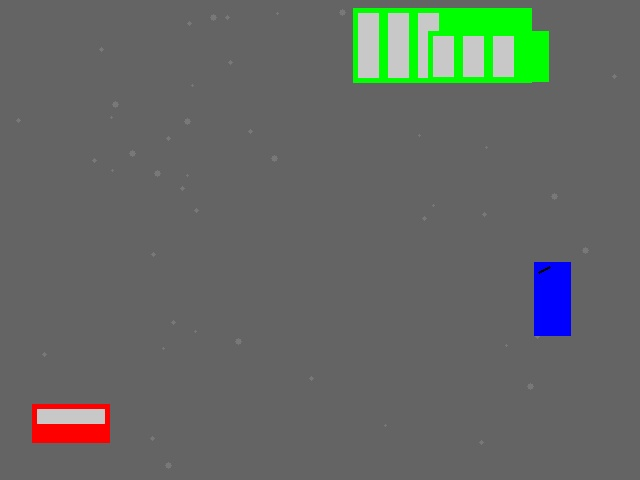bus: (353, 8, 531, 82), (428, 31, 548, 81)
car: (32, 404, 109, 442)
motorcycle: (534, 262, 570, 335)
